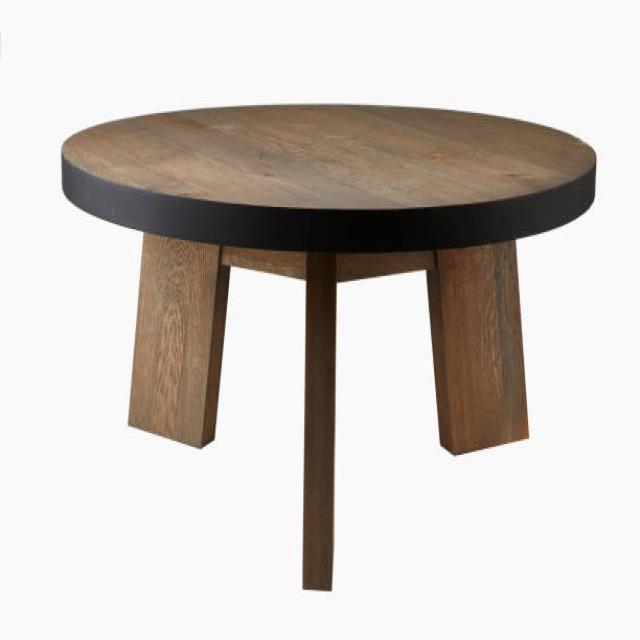table: (61, 100, 596, 592)
